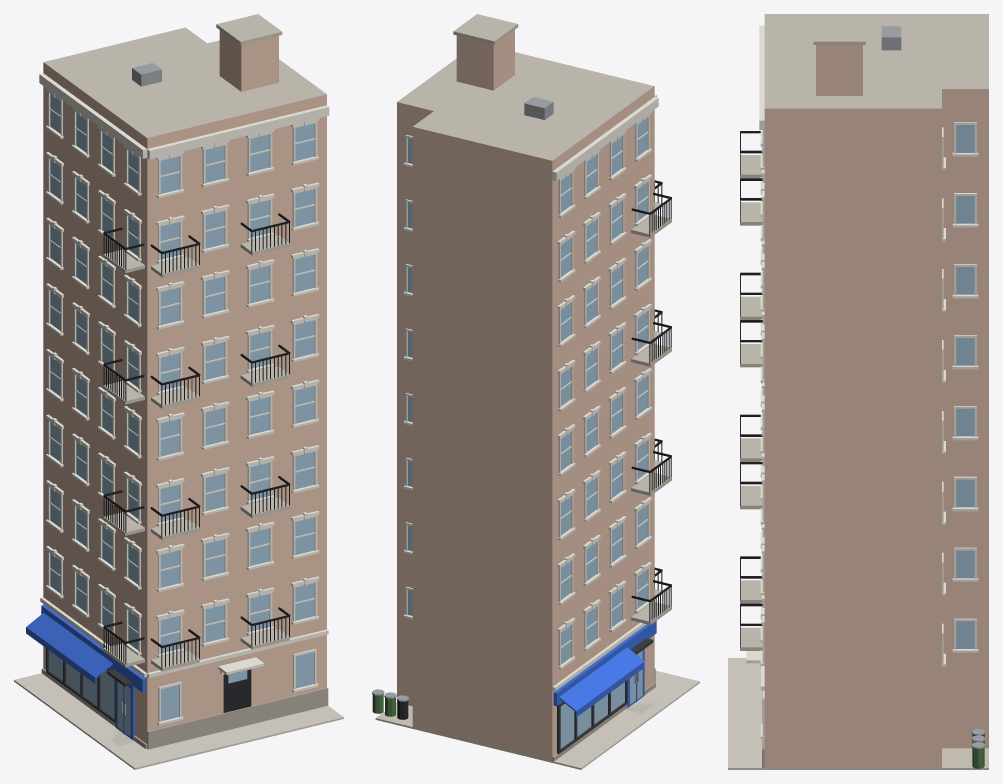
The model's file is Blok_kose_9k_3_Hafif.fbx.
3 views of the same model, side by side, from view 1: azimuth 30°, elevation 25°; view 2: azimuth 150°, elevation 25°; view 3: azimuth 270°, elevation 25° (orthographic). The views are drawn at different scales.
Parts seen in each view (by area): view 1: Blok_kose_9k_3_Hafif; view 2: Blok_kose_9k_3_Hafif; view 3: Blok_kose_9k_3_Hafif.
Boxes of the visible parts, x1,y1,x2,y2 form: Blok_kose_9k_3_Hafif: (14, 14, 343, 769); Blok_kose_9k_3_Hafif: (372, 14, 699, 769); Blok_kose_9k_3_Hafif: (728, 14, 988, 769).
Size of the model in its own units: 10.37 by 30.37 by 10.
